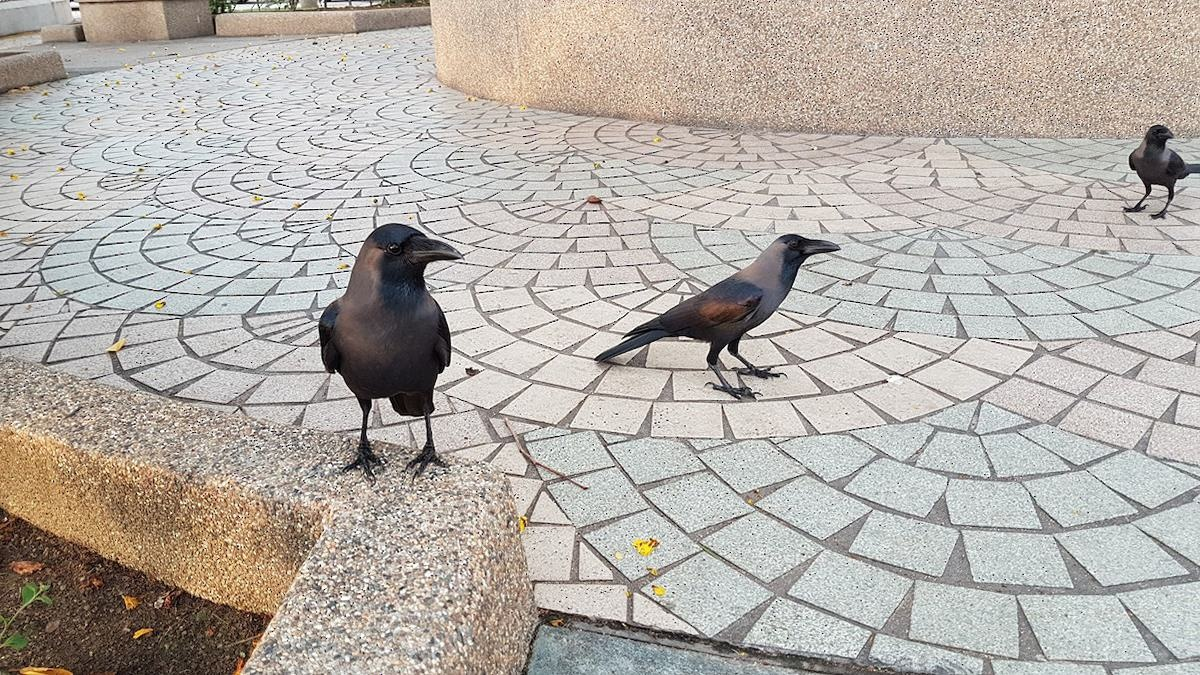crow: (601, 224, 838, 414), (326, 217, 470, 491), (1127, 118, 1200, 224)
